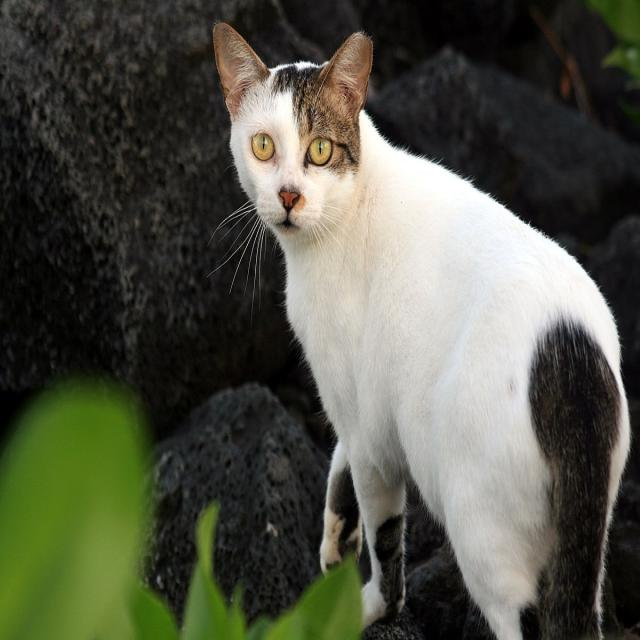cat: (214, 24, 630, 638)
